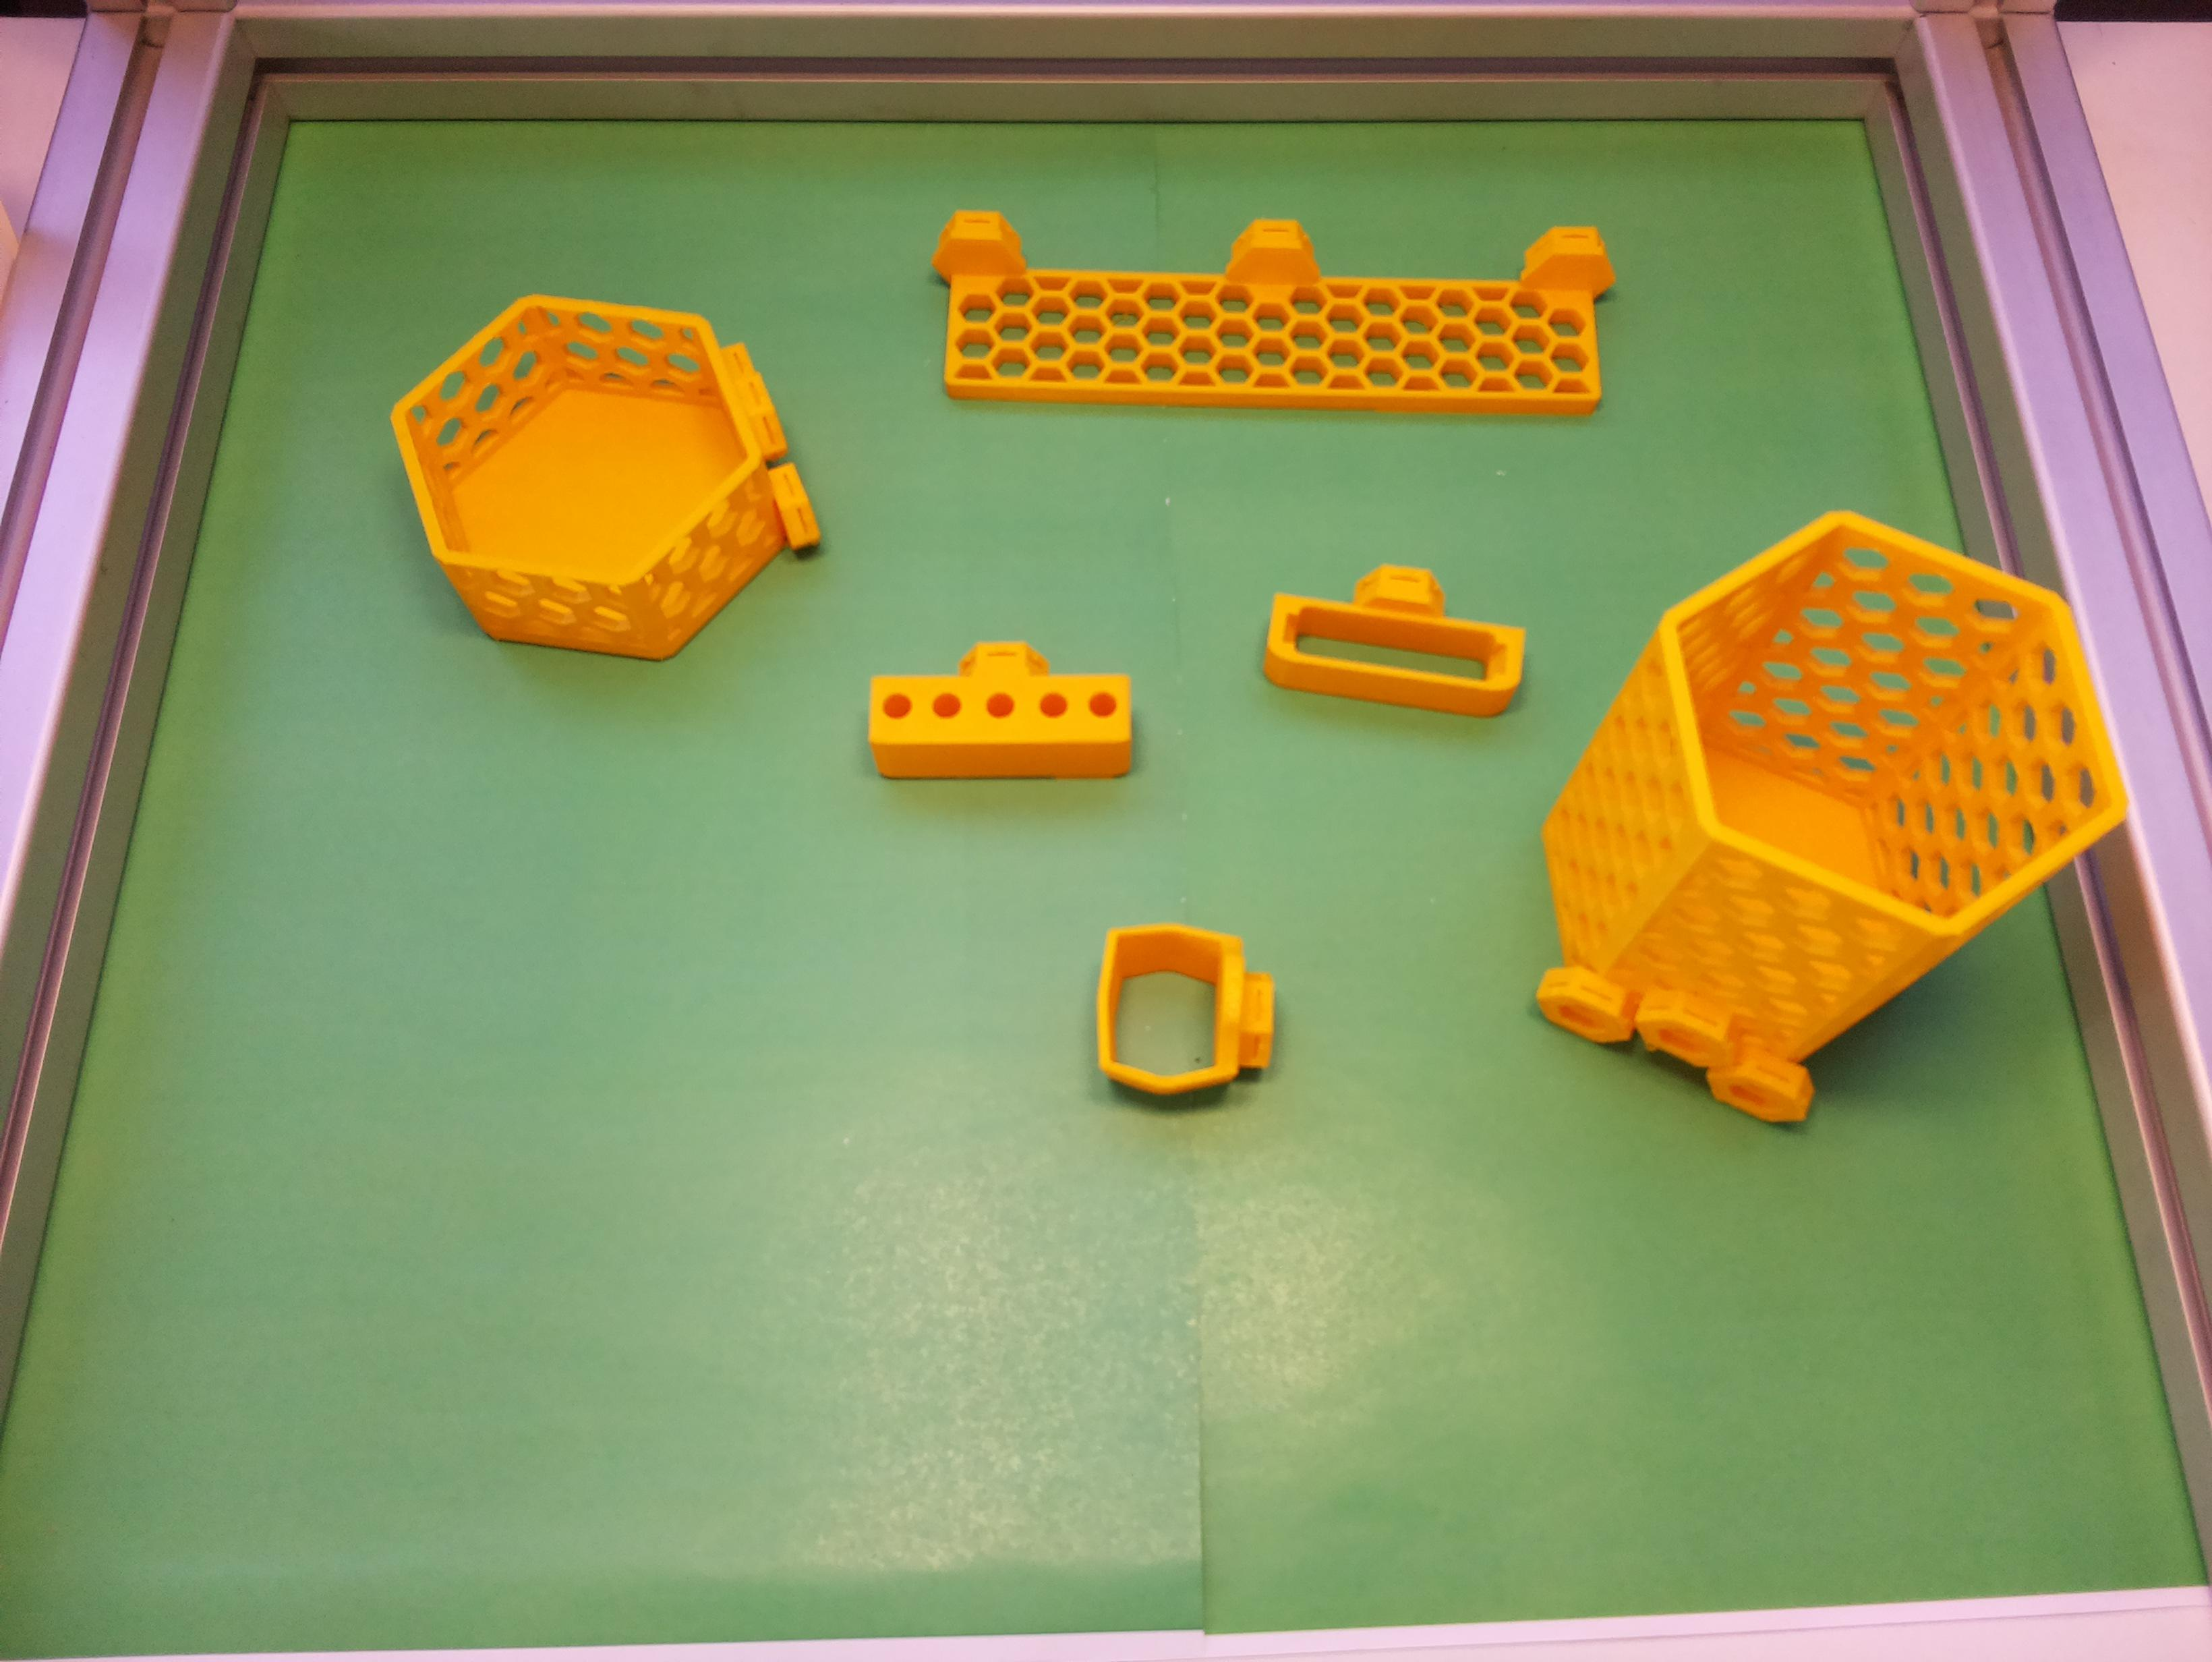bit_holder: (868, 641, 1135, 780)
bottle_holder: (337, 209, 864, 737)
cup_holder: (1402, 410, 2200, 1198)
cutter_holder: (1262, 557, 1529, 718)
scissor_holder: (1096, 922, 1276, 1096)
tool_holder: (929, 209, 1615, 417)
